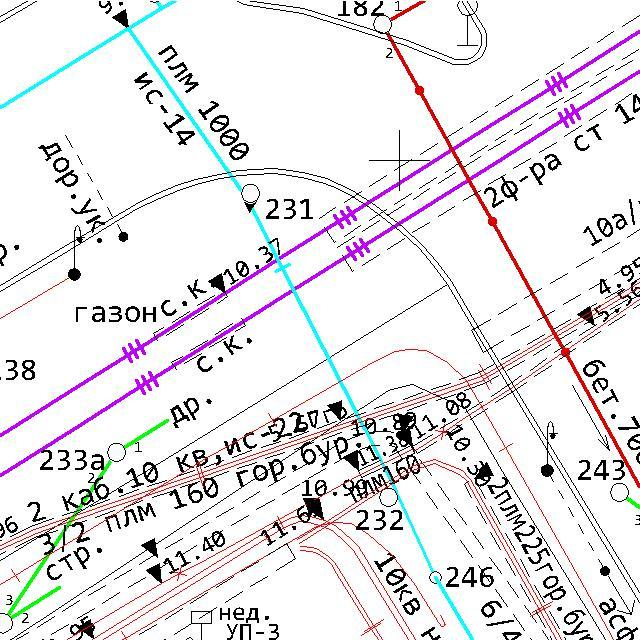mark: (575, 304, 596, 327), (207, 272, 227, 295), (144, 562, 164, 585), (342, 449, 361, 471), (111, 8, 129, 30), (140, 537, 158, 559), (327, 398, 343, 422), (306, 500, 325, 520)
well: (608, 481, 631, 504), (240, 182, 261, 204), (106, 441, 127, 463), (372, 14, 393, 35), (378, 487, 399, 508)
